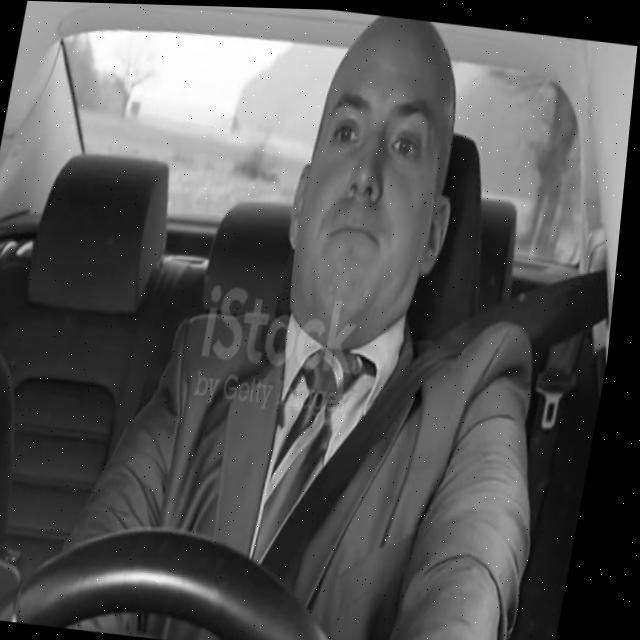PhoneCall: (0, 520, 46, 622)
